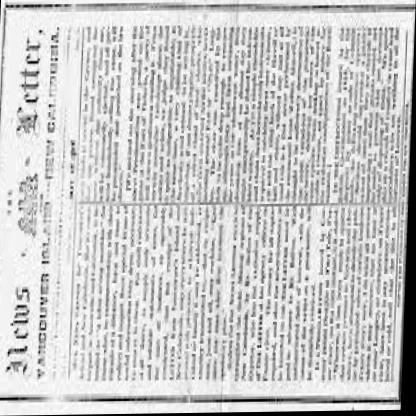Paper: (0, 0, 415, 400)
